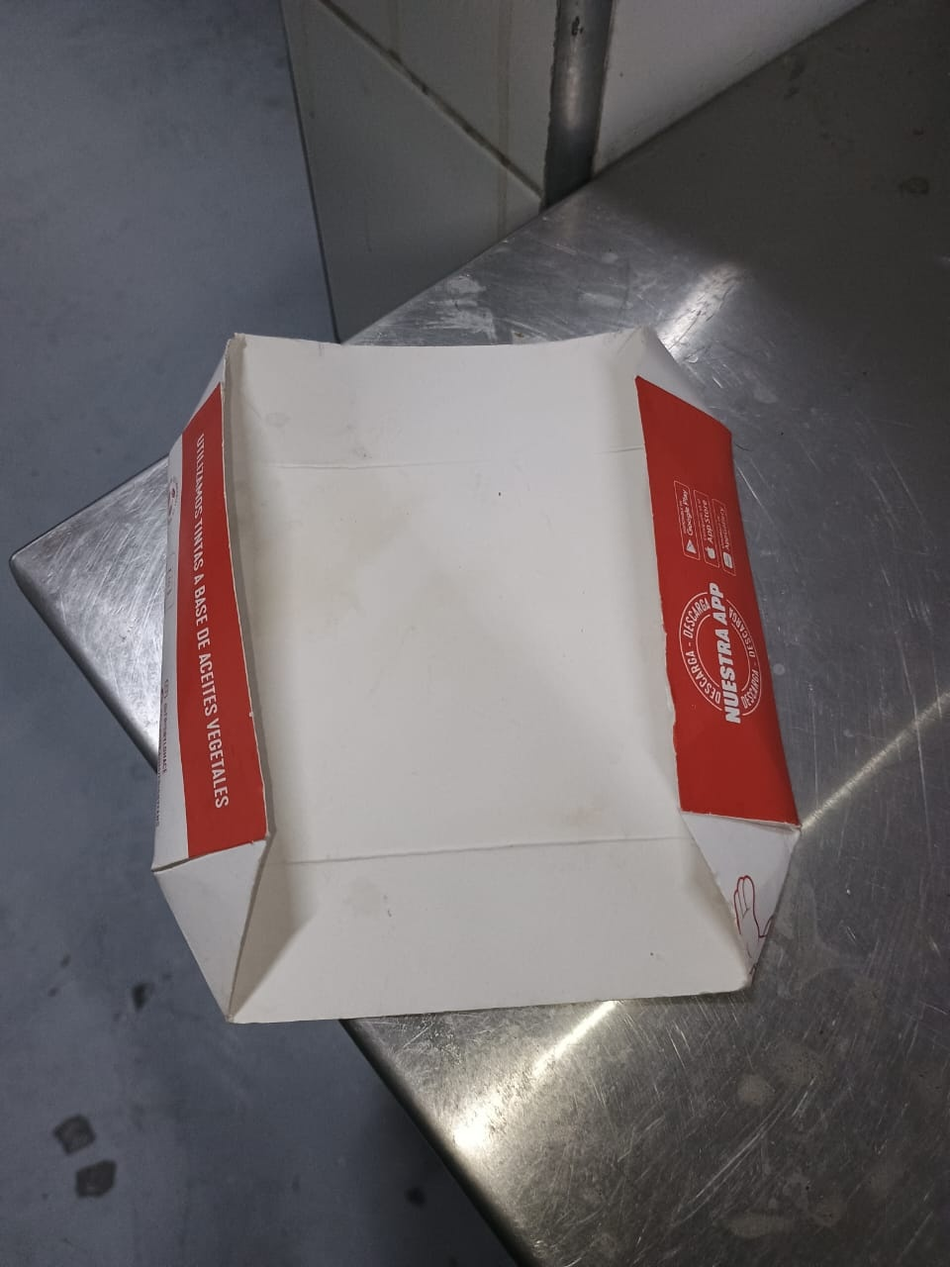Carton: (152, 330, 804, 1023)
